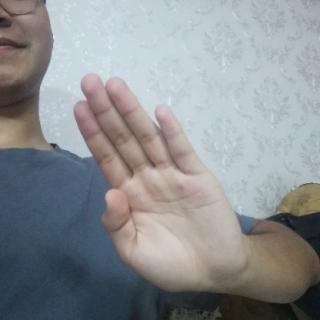SEEN: (64, 70, 252, 305)
